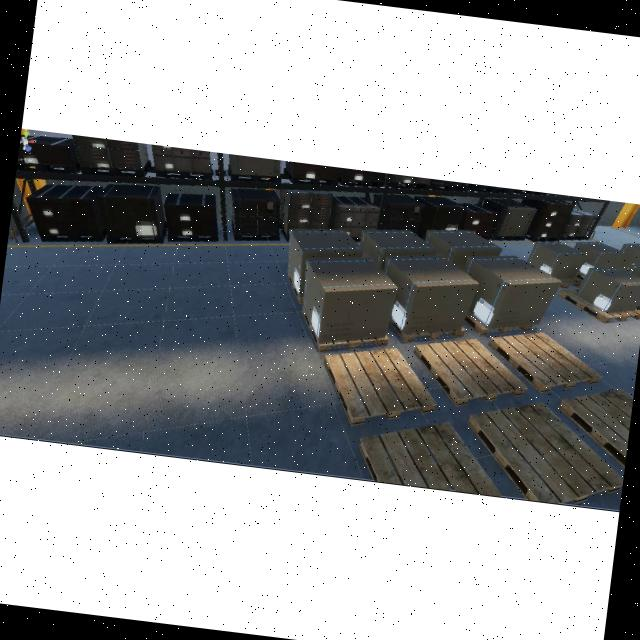wooden_pallet: (488, 332, 602, 394), (556, 287, 640, 324), (464, 312, 532, 335)
